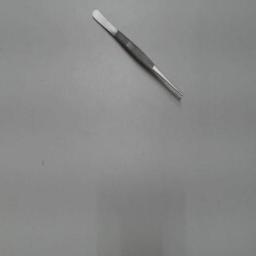Gillies Toothed Dissector: (87, 0, 187, 108)
